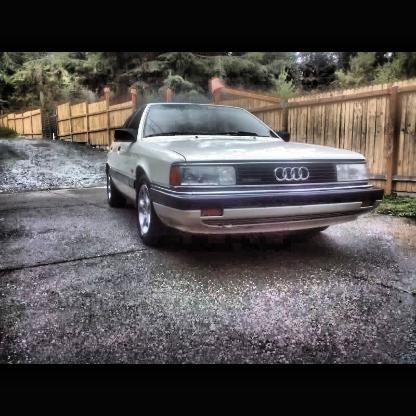Audi V8 Sedan 1994: (108, 103, 383, 242)
